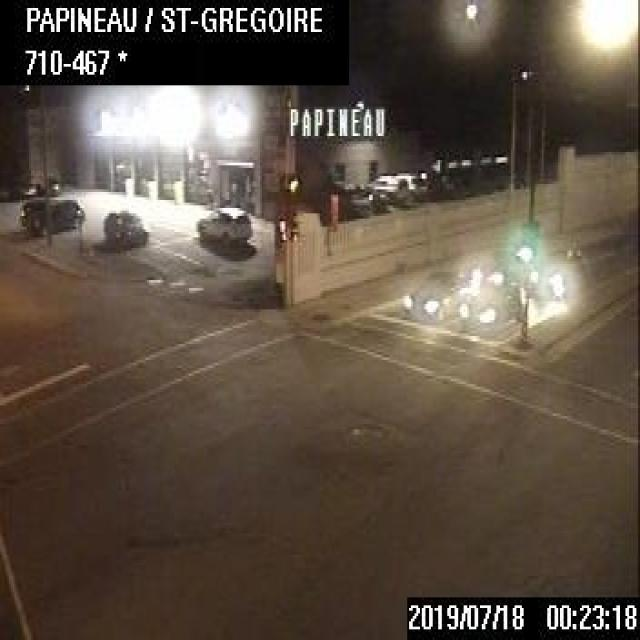vehicle: (402, 270, 468, 320), (461, 280, 522, 326), (318, 175, 370, 228), (17, 192, 84, 233), (194, 202, 251, 249), (367, 171, 429, 205), (100, 206, 147, 249)
